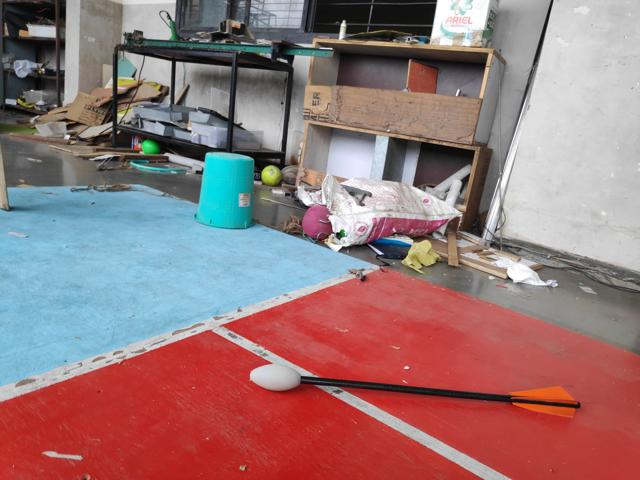Head: (247, 362, 306, 394)
Tail: (505, 383, 585, 421)
